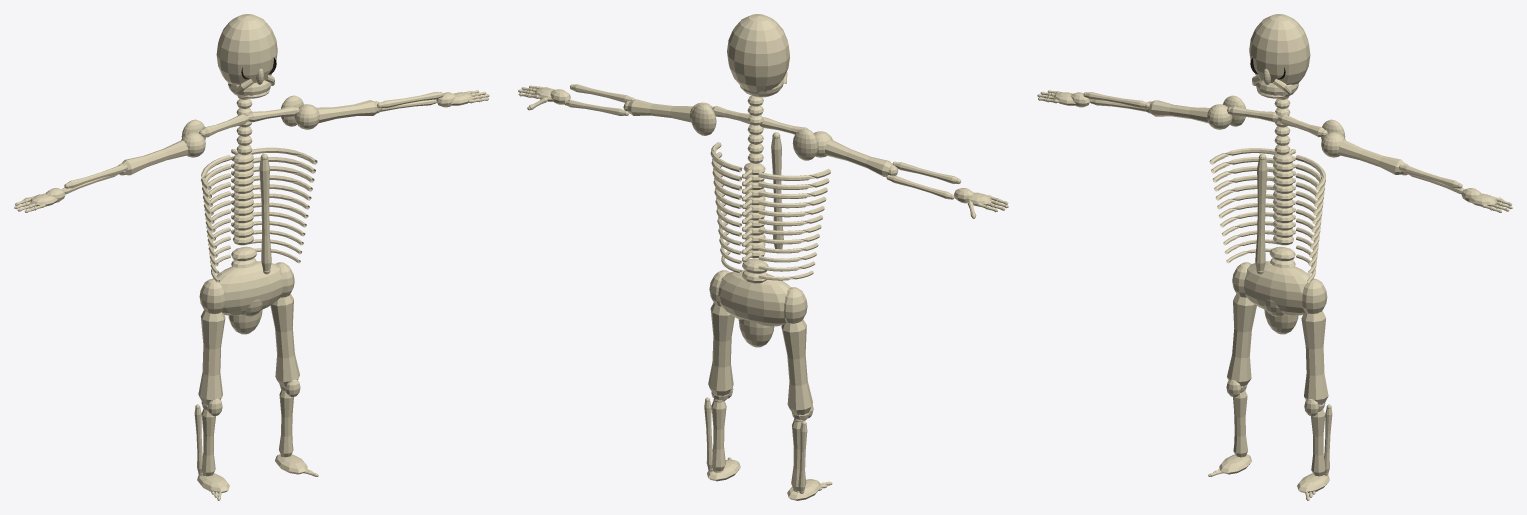
Rendered from Skeleton.obj.
3 renders of one model, left to right at view 1: azimuth 30°, elevation 25°; view 2: azimuth 150°, elevation 25°; view 3: azimuth 330°, elevation 25°, orthographic. The views are drawn at different scales.
Visible parts, largest first — view 1: Femur, Cranium, Pelvis, Thoracic_vertebra, Humerus, Tibia, Hip_socket, Sternum, Shoulder_joint, Foot, Clavicle, Radius (+4 smaller); view 2: Cranium, Femur, Pelvis, Humerus, Tibia, Scapula, Thoracic_vertebra, Hip_socket, Cervical_vertebra, Fibula, Radius, Ulna (+10 smaller); view 3: Femur, Cranium, Pelvis, Thoracic_vertebra, Humerus, Tibia, Hip_socket, Sternum, Shoulder_joint, Foot, Clavicle, Radius (+4 smaller).
Part boxes in pixels (x1,y1,x2,y2): Femur: [198, 293, 299, 405]; Cranium: [216, 14, 277, 84]; Pelvis: [213, 261, 282, 315]; Thoracic_vertebra: [233, 153, 253, 245]; Humerus: [121, 100, 378, 175]; Tibia: [201, 390, 293, 476]; Hip_socket: [199, 262, 294, 313]; Sternum: [259, 158, 271, 271]; Shoulder_joint: [181, 104, 319, 157]; Foot: [197, 454, 307, 493]; Clavicle: [202, 106, 296, 137]; Radius: [67, 92, 441, 188]; Cranium: [727, 14, 789, 91]; Femur: [708, 303, 812, 415]; Pelvis: [718, 270, 791, 326]; Humerus: [627, 99, 892, 176]; Tibia: [711, 400, 806, 490]; Scapula: [691, 104, 817, 160]; Thoracic_vertebra: [743, 162, 765, 258]; Hip_socket: [709, 270, 807, 323]; Cervical_vertebra: [747, 95, 763, 163]; Fibula: [704, 401, 807, 491]; Radius: [571, 84, 957, 183]; Ulna: [565, 100, 951, 199]; Femur: [1227, 294, 1328, 404]; Cranium: [1249, 14, 1310, 84]; Pelvis: [1244, 261, 1310, 315]; Thoracic_vertebra: [1273, 153, 1293, 245]; Humerus: [1148, 100, 1404, 174]; Tibia: [1233, 390, 1325, 476]; Hip_socket: [1232, 262, 1327, 313]; Sternum: [1255, 159, 1267, 271]; Shoulder_joint: [1207, 104, 1345, 157]; Foot: [1219, 454, 1329, 493]; Clavicle: [1229, 106, 1324, 137]; Radius: [1085, 92, 1459, 188].
Bounding box in the file's own units: 1.82 × 1.69 × 0.2477.
